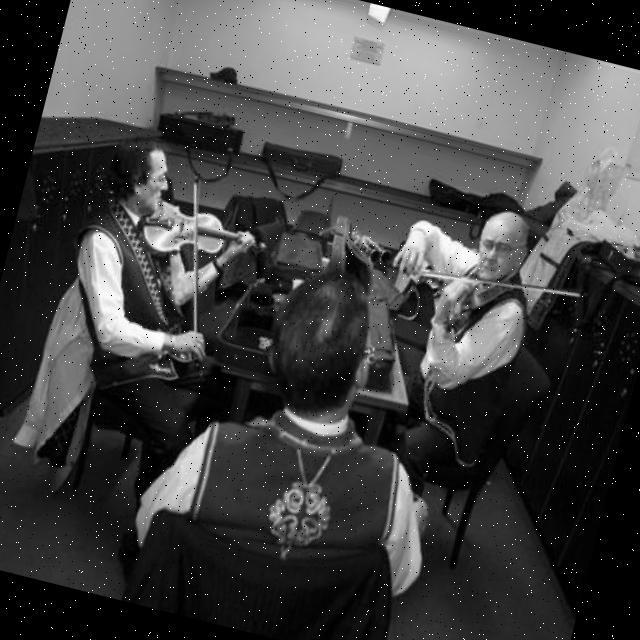violin: (132, 192, 275, 276), (442, 262, 513, 334)
